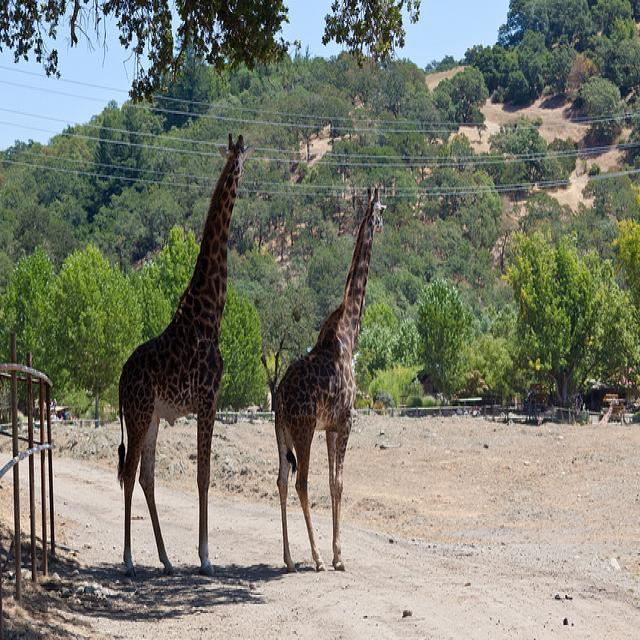giraffe: (116, 129, 256, 578), (270, 181, 389, 574)
